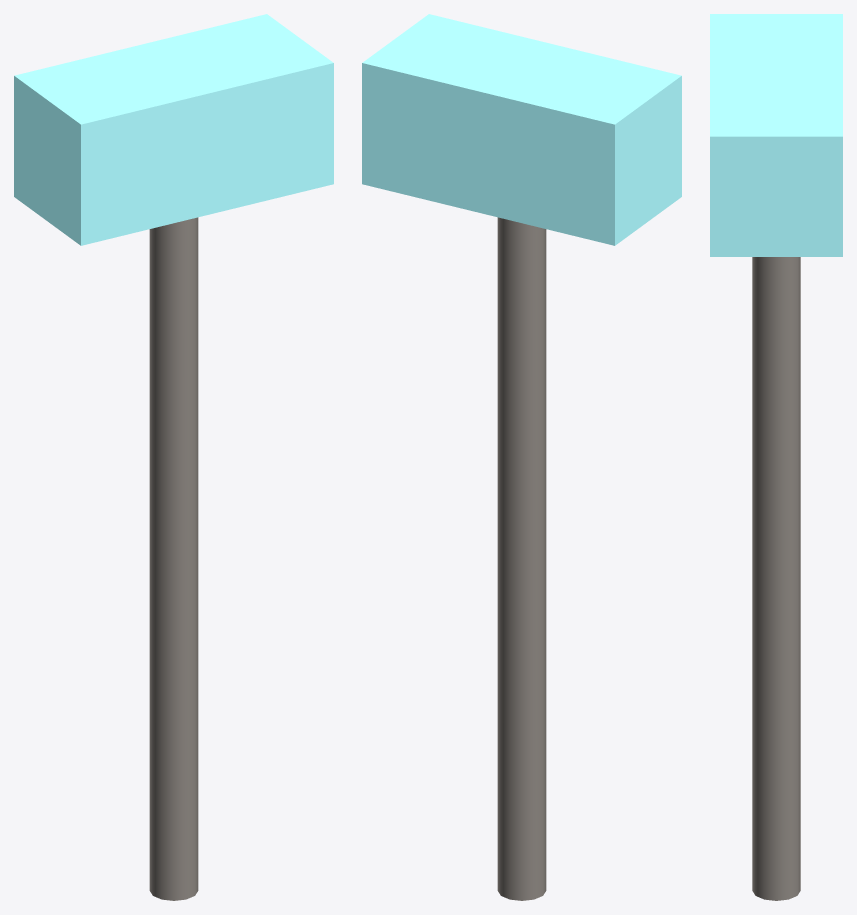
Rendered from stoneborn_hammer.glb.
The picture shows the model from 3 angles, left to right: view 1: azimuth 30°, elevation 25°; view 2: azimuth 150°, elevation 25°; view 3: azimuth 270°, elevation 25°; orthographic projection.
Visible parts, largest first — view 1: Stoneborn Memory Hammer; view 2: Stoneborn Memory Hammer; view 3: Stoneborn Memory Hammer.
Boxes of the visible parts, left/top/right/bottom form: Stoneborn Memory Hammer: left=14, top=14, right=333, bottom=900; Stoneborn Memory Hammer: left=362, top=14, right=681, bottom=900; Stoneborn Memory Hammer: left=710, top=14, right=842, bottom=900.
Bounding box in the file's own units: 0.48 × 1.49 × 0.22.
